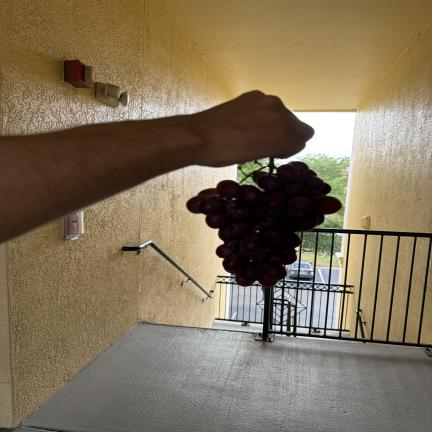grape_cluster: (187, 158, 342, 286)
